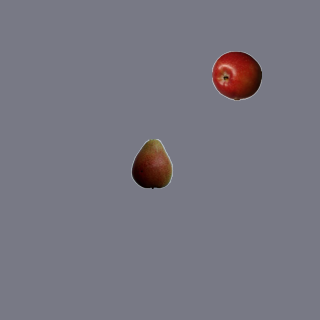Apple Braeburn: (211, 50, 261, 100)
Pear Forelle: (126, 138, 176, 188)
